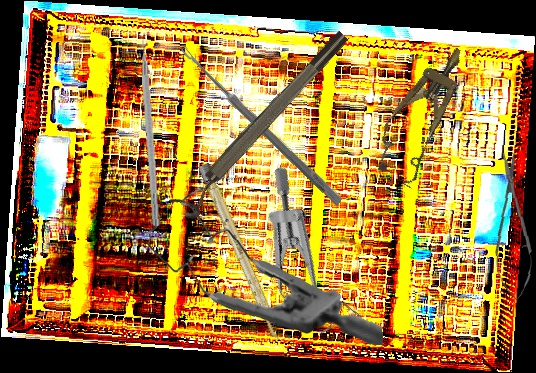Chopper: (137, 23, 172, 228)
Fixation Ring: (169, 27, 359, 223)
Micro Scissor: (490, 152, 535, 301)
Scalpel Handle: (198, 162, 283, 342)
Speculum: (143, 179, 384, 357), (213, 163, 407, 355), (364, 35, 483, 190)
Surgical Spoon: (178, 45, 344, 206)
